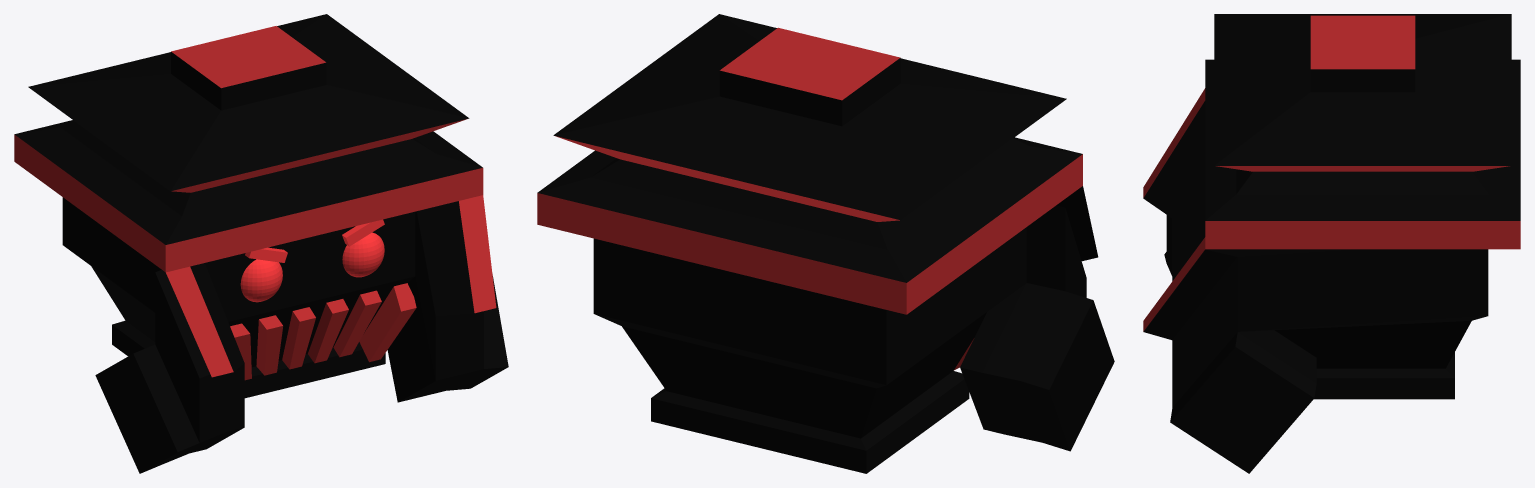
Rendered from head.fbx.
3 views of the same model, side by side, from view 1: azimuth 30°, elevation 25°; view 2: azimuth 150°, elevation 25°; view 3: azimuth 270°, elevation 25° (orthographic). The views are drawn at different scales.
Visible parts, largest first — view 1: Cube.003, Sphere, Sphere.001, Cube.002; view 2: Cube.003; view 3: Cube.003.
Part boxes in pixels (left/top/right/bottom): Cube.003: left=14, top=14, right=508, bottom=473; Sphere: left=240, top=259, right=282, bottom=302; Sphere.001: left=342, top=232, right=384, bottom=277; Cube.002: left=342, top=219, right=384, bottom=246; Cube.003: left=537, top=14, right=1114, bottom=473; Cube.003: left=1143, top=14, right=1520, bottom=473.
Size of the model in its own units: 75.05 by 66.62 by 65.42.
